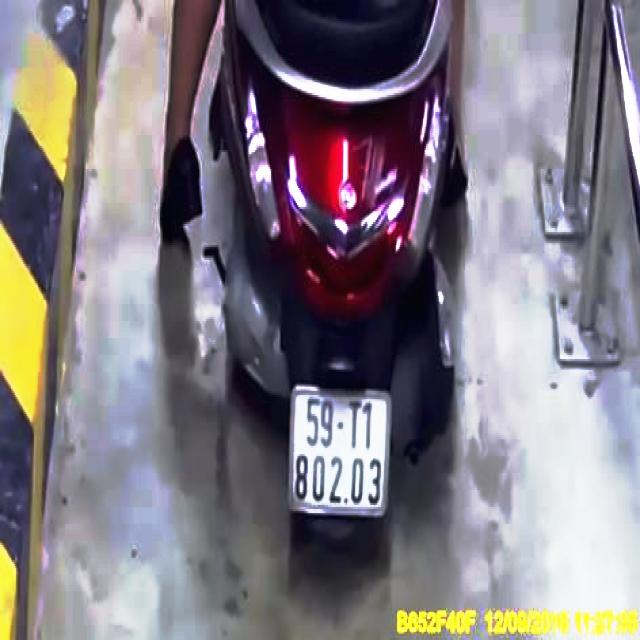license_plate: (293, 386, 389, 515)
